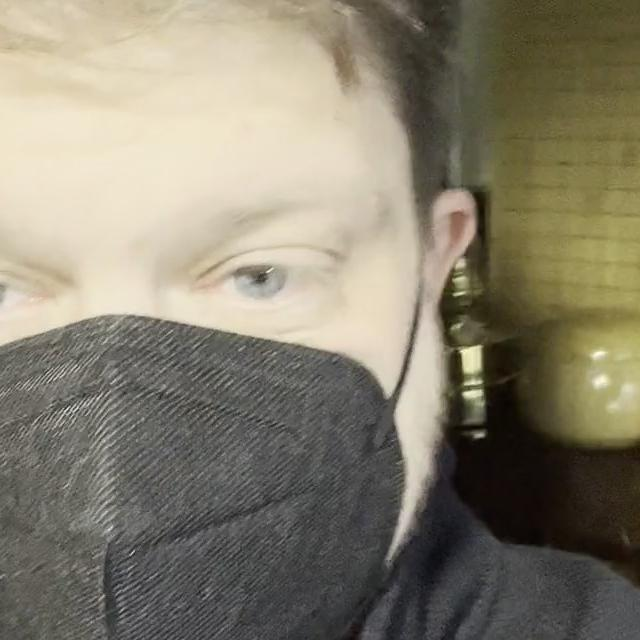Mask: (0, 240, 440, 640)
Person: (0, 0, 640, 640)
